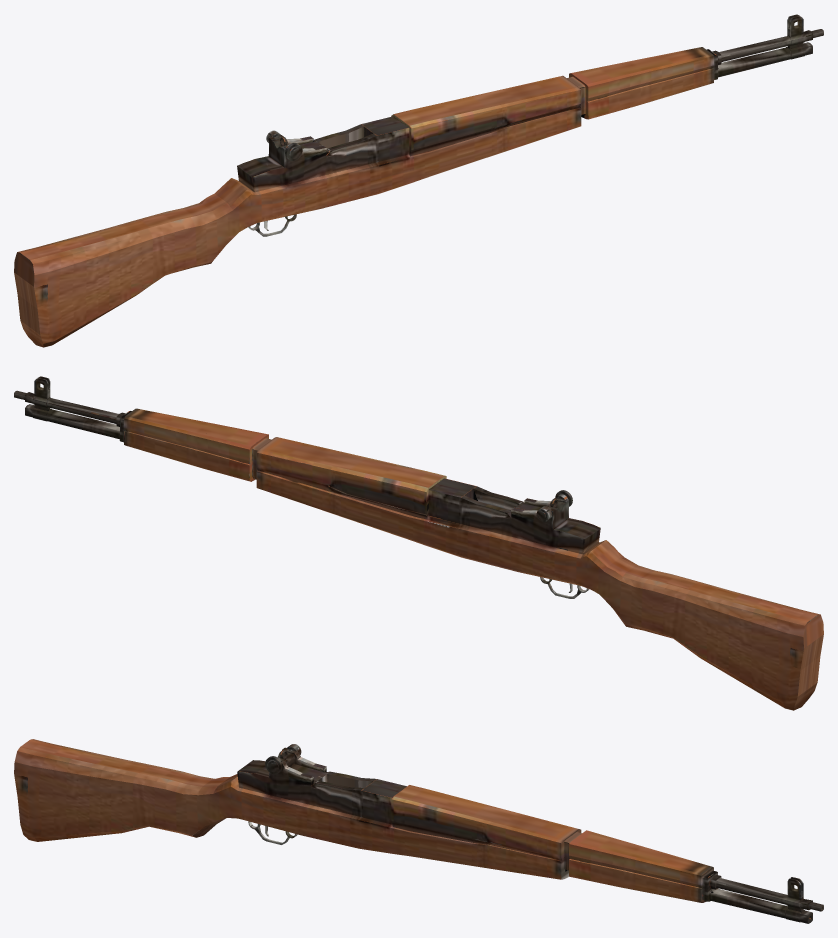
File: garand.obj
3 views of the same model, one above another, from view 1: azimuth 30°, elevation 25°; view 2: azimuth 150°, elevation 25°; view 3: azimuth 330°, elevation 25° (orthographic).
Visible parts, largest first — view 1: Cube_Cube.001; view 2: Cube_Cube.001; view 3: Cube_Cube.001.
Part boxes in pixels (x1=…): Cube_Cube.001: x1=14, y1=14, x2=823, y2=347; Cube_Cube.001: x1=14, y1=376, x2=823, y2=710; Cube_Cube.001: x1=14, y1=739, x2=823, y2=923.
Size of the model in its own units: 9.66 by 1.72 by 0.4759.
